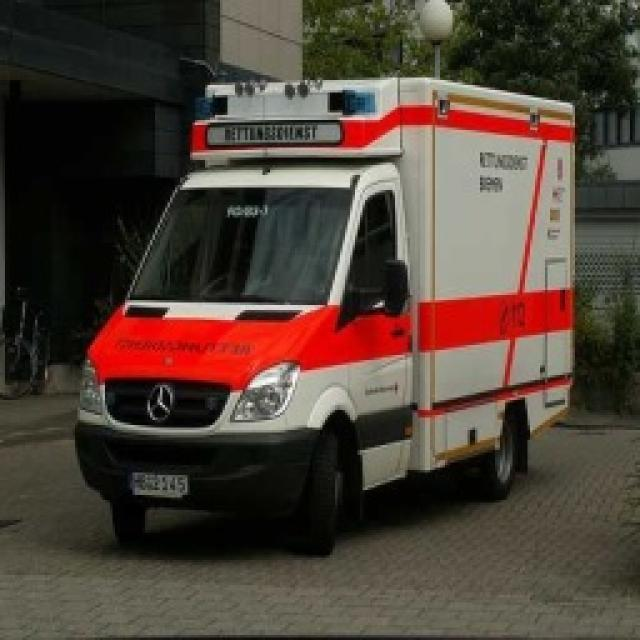ambulance: (72, 72, 572, 550)
